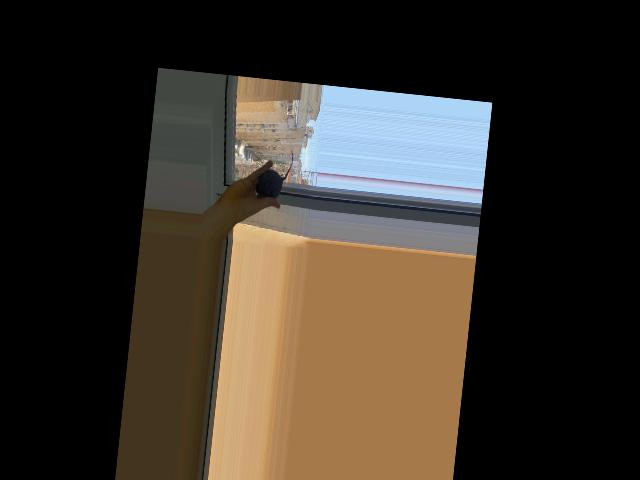beet: (254, 145, 294, 199)
